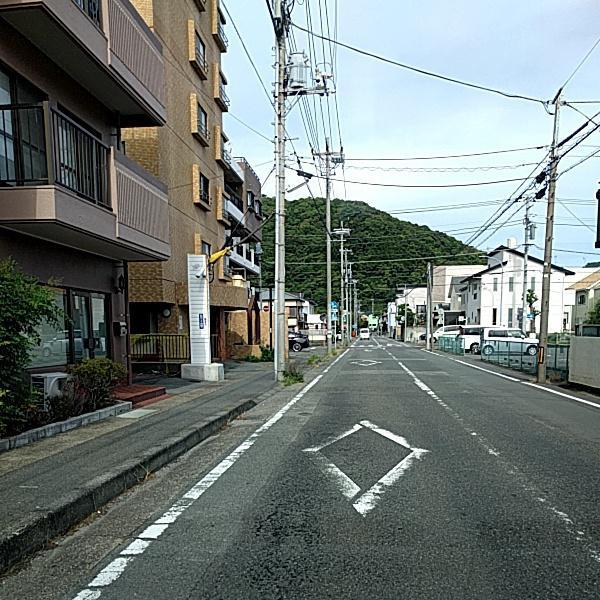D44: (45, 422, 266, 599), (435, 402, 599, 581), (293, 411, 439, 524)
